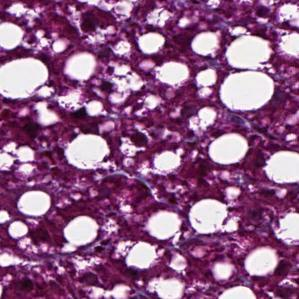steatosis: (220, 69, 276, 112), (190, 198, 232, 234), (65, 136, 113, 167), (244, 244, 285, 280), (209, 134, 253, 164), (61, 49, 100, 82), (16, 187, 56, 218), (145, 213, 184, 244), (67, 214, 98, 243)
